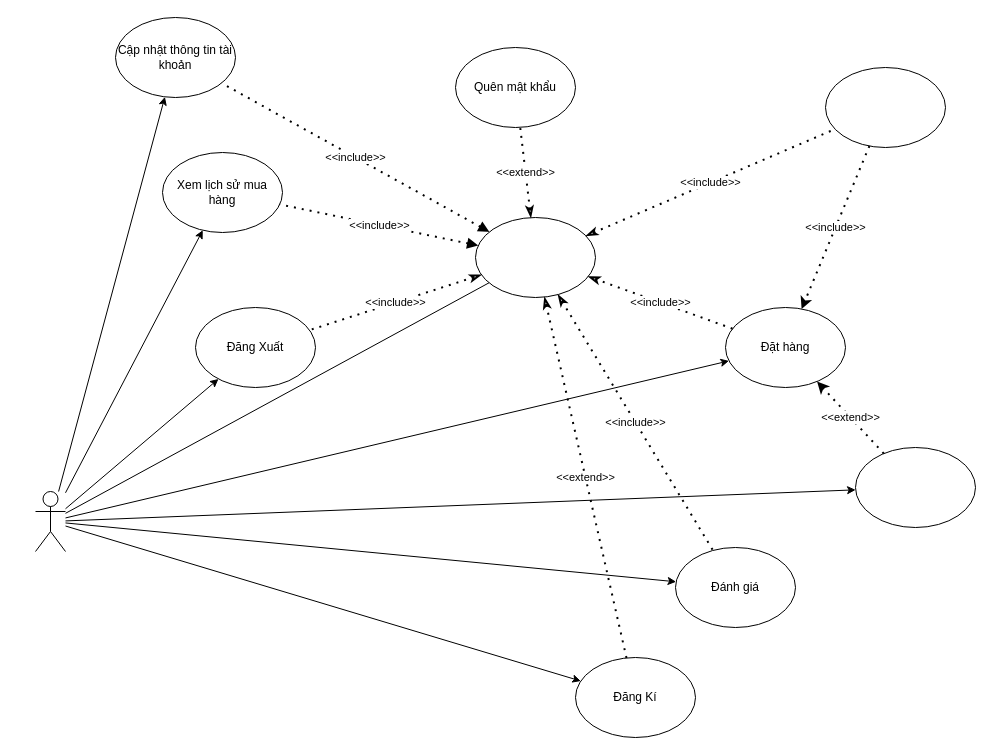
The diagram is 993 pixels wide and 755 high, and some of its shapes have lost their labels. The shapes that lost their labels are listed below. From the top down, each one's centre as x and y in pixels, then its label:
[885,107]: Thanh Toán
[535,257]: Đăng Nhập
[915,487]: Tra cứu sản phẩm
[50,521]: Khách Hàng
